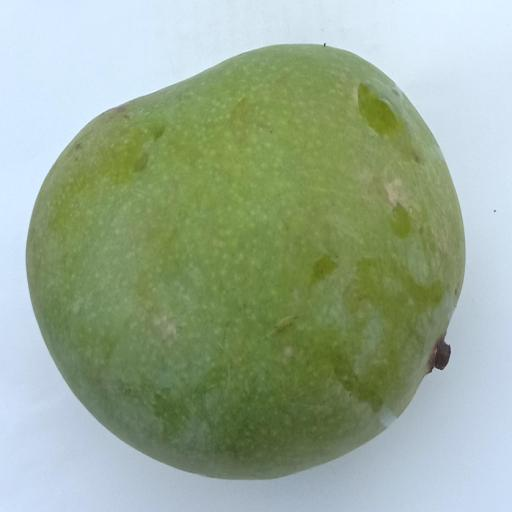mango-unripe: (17, 26, 499, 495)
